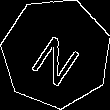N_NE: (26, 21, 86, 85)
